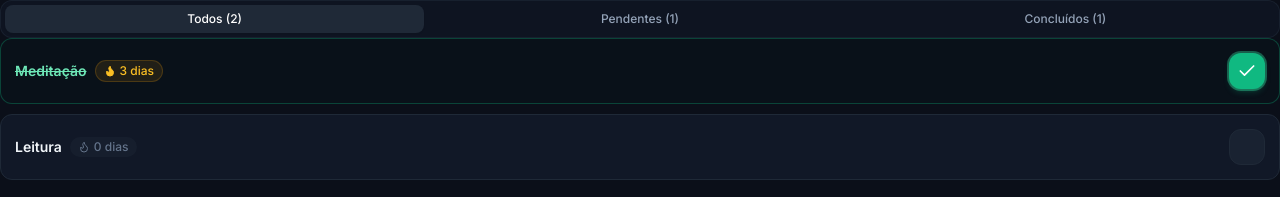
Test case: Dashboard Components Suite › HabitChecklist.vue › filters habits by pending and completed tabs
Expected: the number of "HabitCheckinRow" components is 2, [0,38,1279,104]; [0,114,1279,180]
Note: Switch to "Pendentes"
Click the button "Pendentes (1)".
click(640, 19)  # box [430,5,850,33]
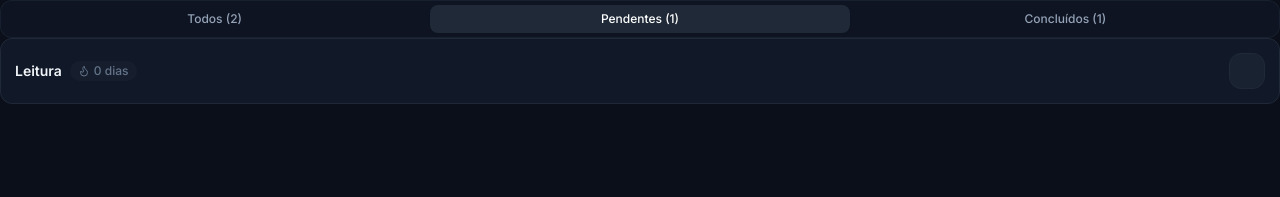
Expected: the text "Leitura" is shown, [15,61,62,81]
Result: the number of "HabitCheckinRow" components is 1 at [0,38,1279,104]
Result: the text "Meditação" is gone
Note: Switch to "Concluídos"
Click the button "Concluídos (1)".
click(1065, 19)  # box [856,5,1275,33]
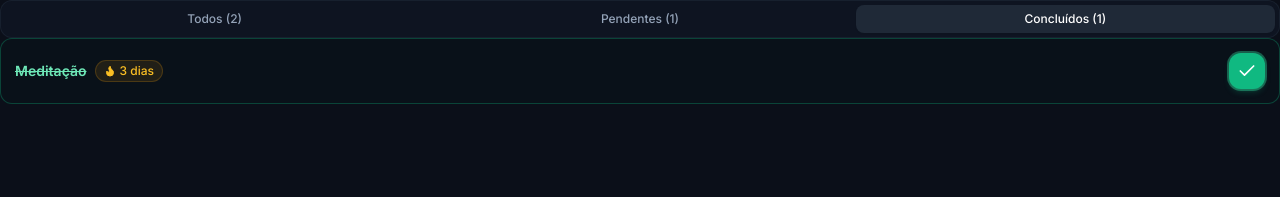
Result: the number of "HabitCheckinRow" components is 1 at [0,38,1279,104]
Result: the text "Meditação" is shown at [15,61,86,81]
Result: the text "Leitura" is gone
